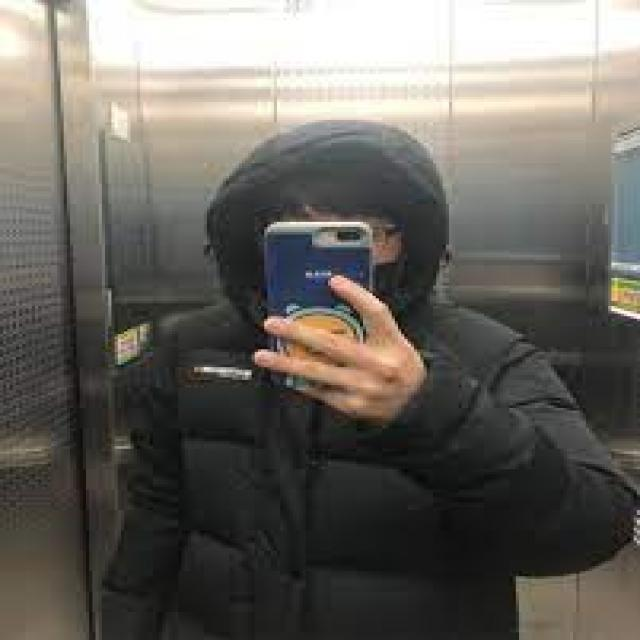Phone: (260, 216, 372, 366)
